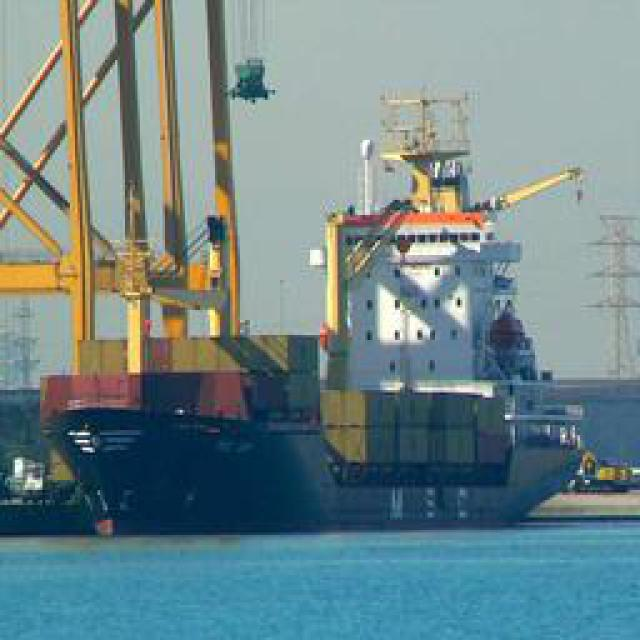Ship: (50, 141, 605, 539)
